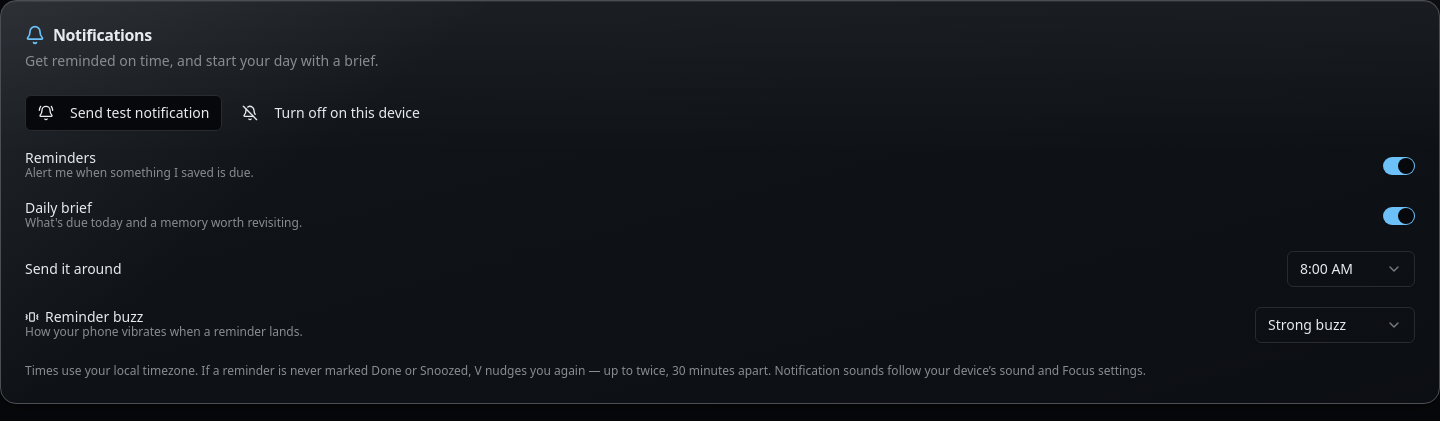
Test case: notification settings actions › sends a real test request and does not call it delivered when rejected
Click the button "Send test notification" at (124, 113), box [25,95,222,131]
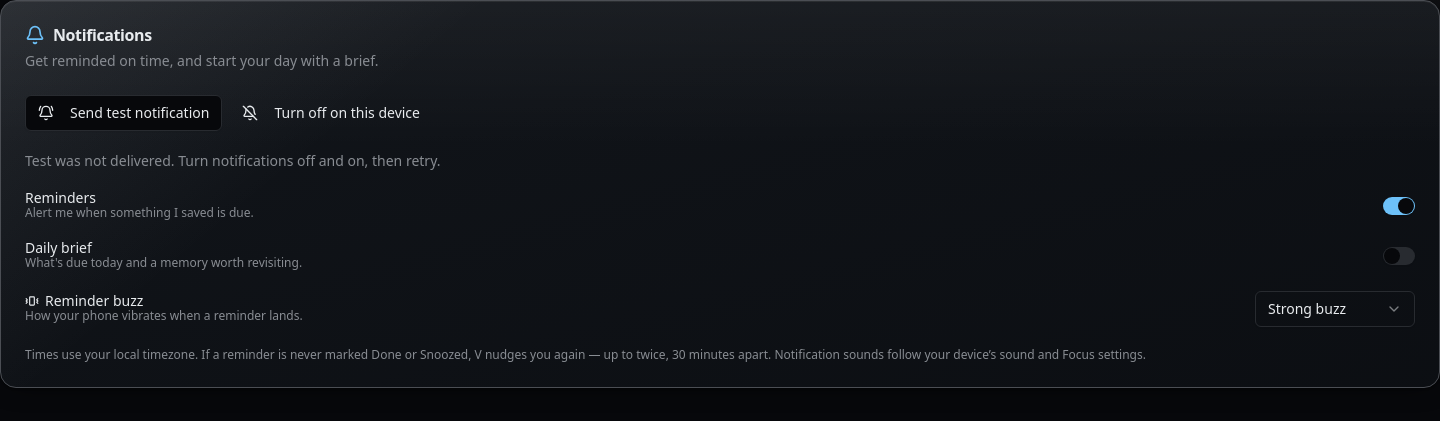
Result: the message shows "not delivered" at [25,151,440,170]
